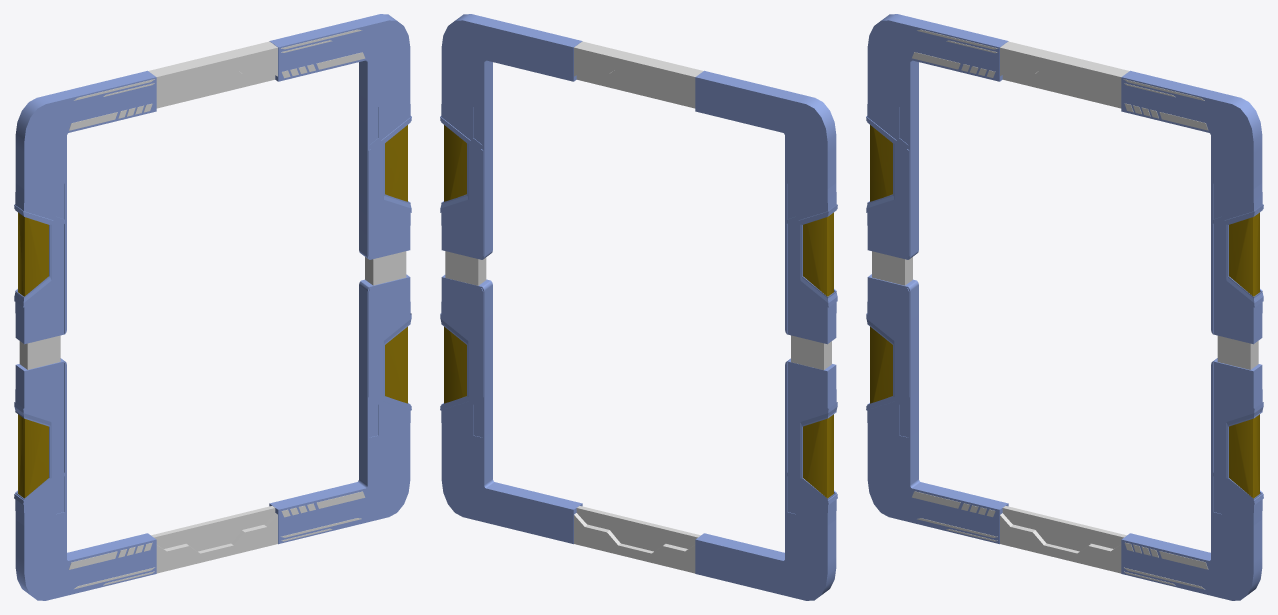
The model's file is Card_Test 1.fbx.
3 views of the same model, side by side, from view 1: azimuth 30°, elevation 25°; view 2: azimuth 150°, elevation 25°; view 3: azimuth 330°, elevation 25° (orthographic).
Parts seen in each view (by area): view 1: Card 1, Card 2, Card 3, Card 4, Cube.016, Cube.018, Cube.015, Cube.019, Cube.014, Cube.013, Contour 1, Contour 4 (+2 smaller); view 2: Card 1, Card 2, Card 3, Card 4, Cube.016, Cube.018, Cube.015, Cube.019, Cube.014, Cube.013, Contour 1, Contour 4 (+2 smaller); view 3: Card 2, Card 1, Card 4, Card 3, Cube.016, Cube.018, Cube.015, Cube.019, Cube.014, Cube.013, Contour 2, Contour 3 (+2 smaller).
Boxes of the visible parts, x1,y1,x2,y2 form: Card 1: (14,70,156,344); Card 2: (269,14,411,259); Card 3: (269,274,411,544); Card 4: (15,358,156,600); Cube.016: (148,41,277,105); Cube.018: (151,506,275,551); Cube.015: (156,513,277,573); Cube.019: (156,67,275,108); Cube.014: (365,251,406,285); Cube.013: (19,335,60,369); Contour 1: (14,205,54,307); Contour 4: (14,402,54,504); Card 1: (695,70,837,344); Card 2: (440,14,582,259); Card 3: (440,275,582,544); Card 4: (695,358,836,600); Cube.016: (574,41,703,105); Cube.018: (576,506,700,551); Cube.015: (574,513,695,573); Cube.019: (576,67,695,108); Cube.014: (445,251,486,285); Cube.013: (791,335,831,370); Contour 1: (797,205,837,307); Contour 4: (797,402,837,504); Card 2: (1121,70,1263,344); Card 1: (866,14,1008,259); Card 4: (866,274,1008,544); Card 3: (1121,358,1262,600); Cube.016: (1000,41,1129,105); Cube.018: (1002,506,1126,551); Cube.015: (1000,513,1121,573); Cube.019: (1002,67,1121,108); Cube.014: (1217,335,1258,369); Cube.013: (872,251,912,285); Contour 2: (1223,205,1263,307); Contour 3: (1223,402,1263,504).
Bounding box in the file's own units: 1.88 × 2.3 × 0.0807.
